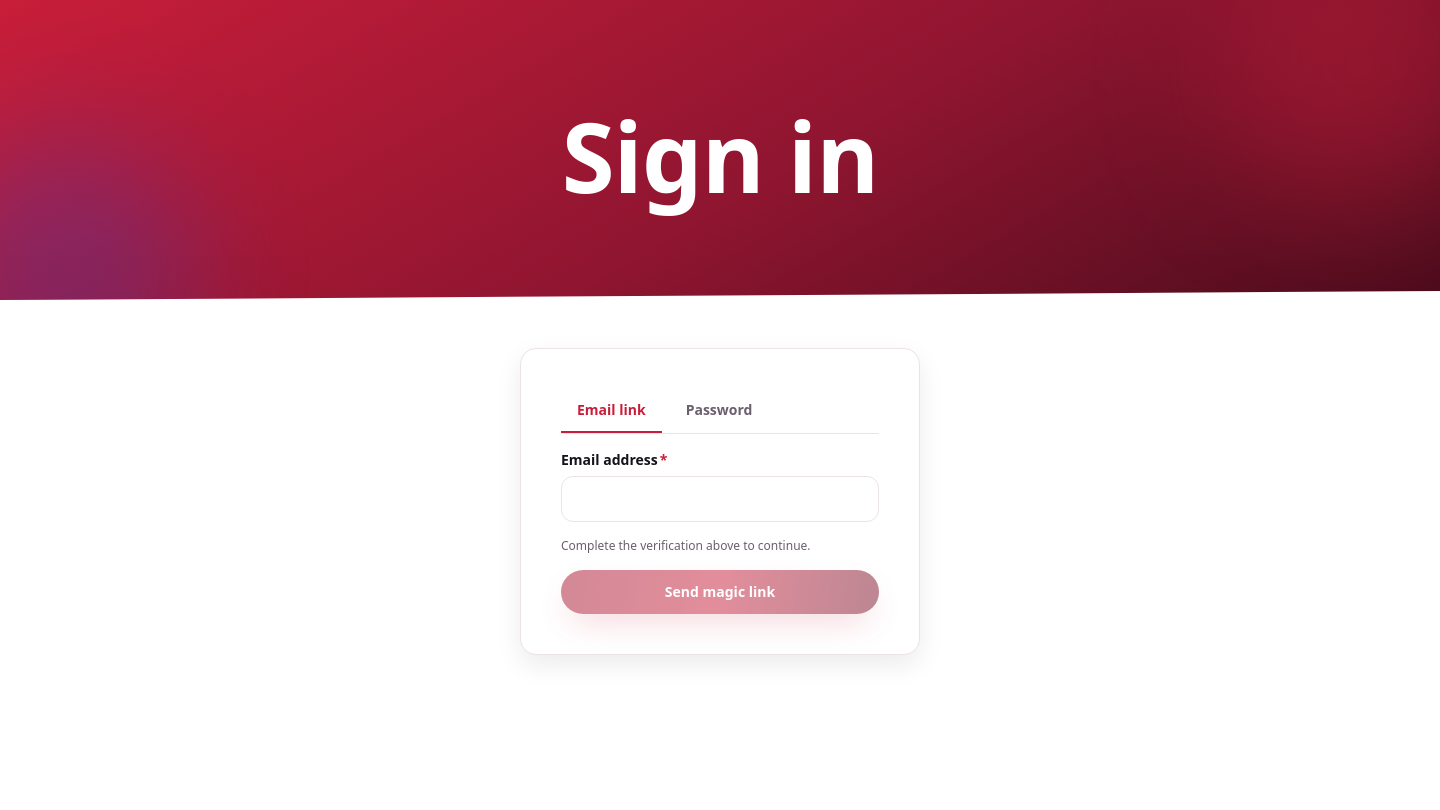
Test case: AccountLoginPage › Password tab › shows a password-specific error on failure, without redirecting
Click the tab "Password".
click(719, 411)  # box [670,389,768,433]
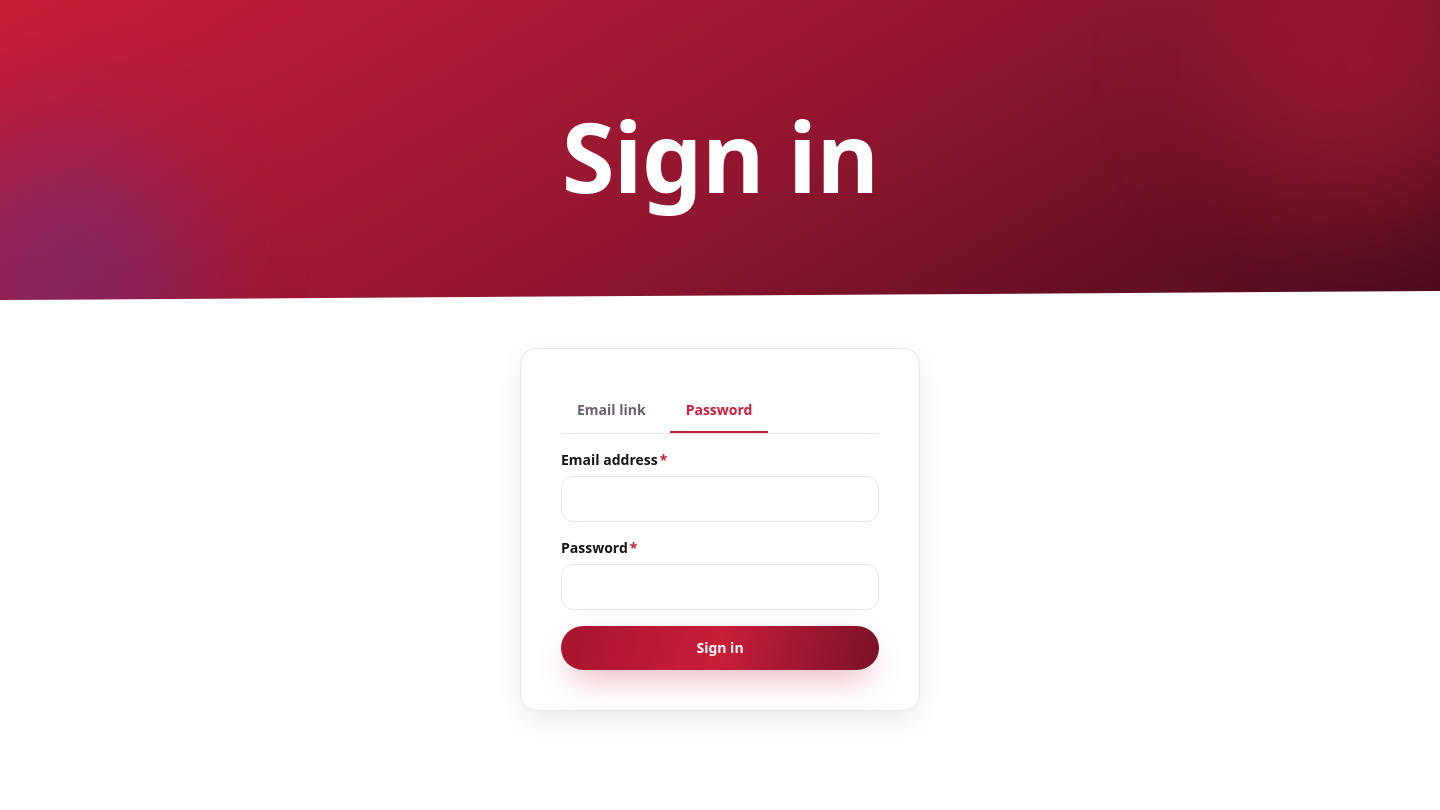
Type "person@example.com" into the field labelled "Email address".
click(720, 499); type("person@example.com")  # box [561,476,879,522]
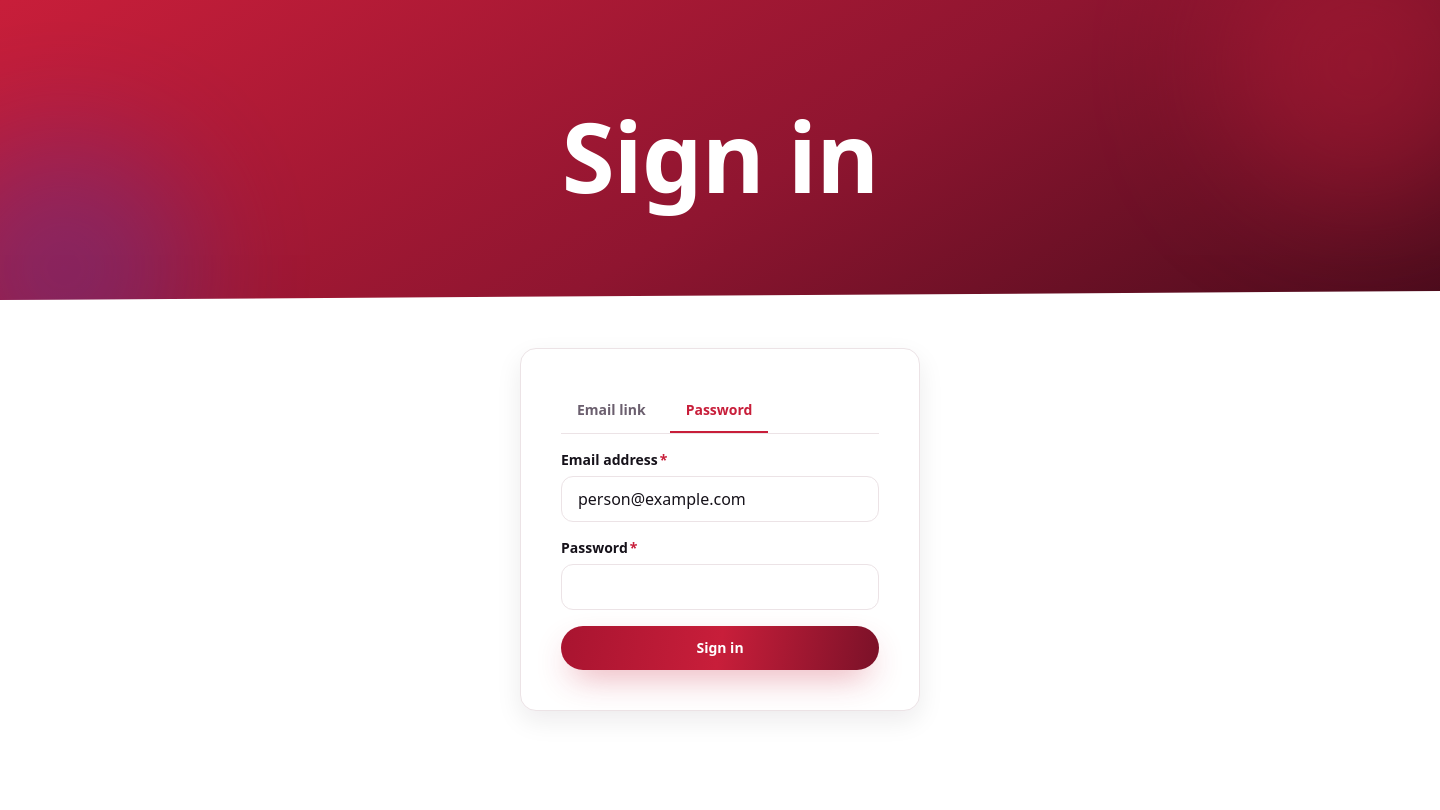
Type "wrong" into the password field labelled "Password".
click(720, 587); type("wrong")  # box [561,564,879,610]
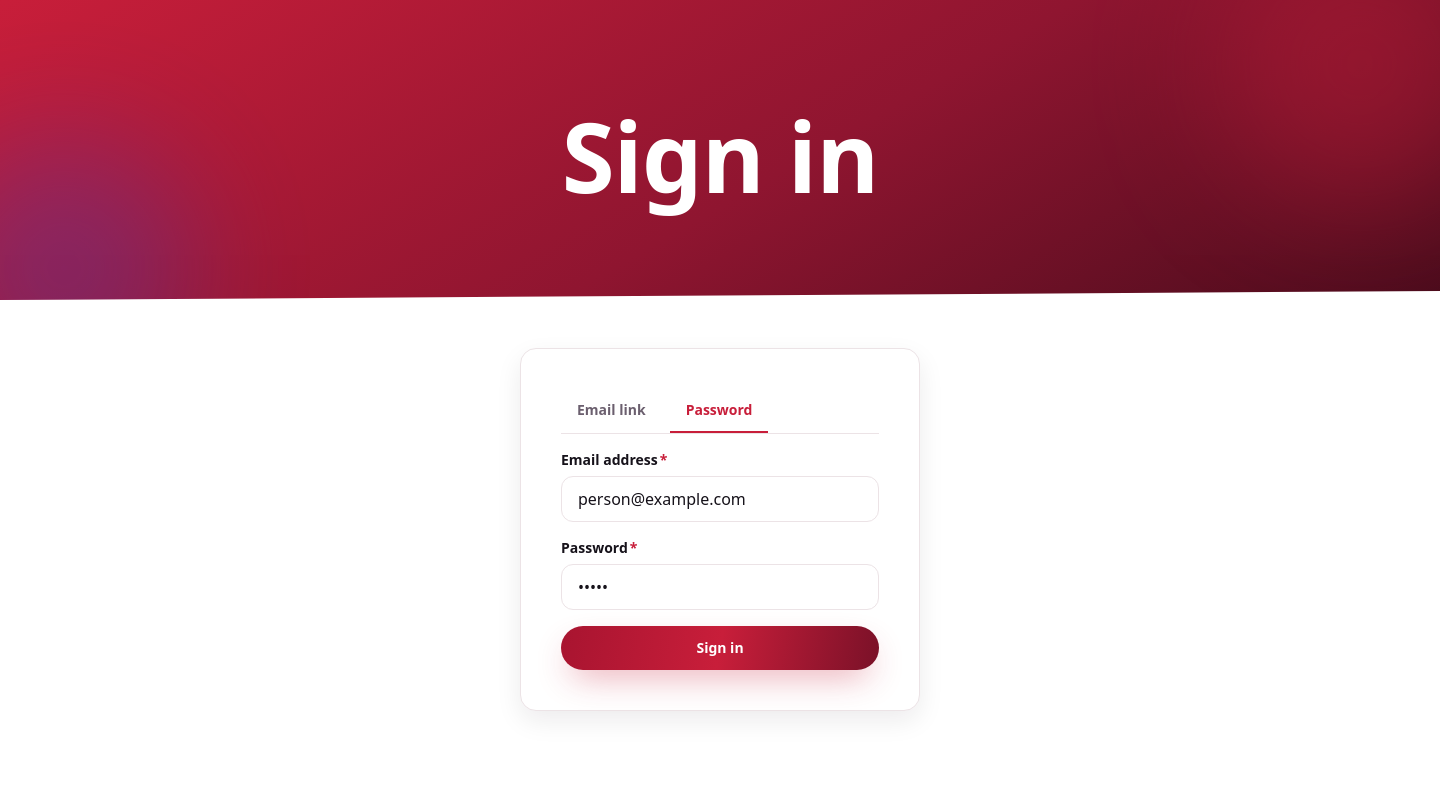
Click the button "Sign in".
click(720, 648)  # box [561,626,879,670]
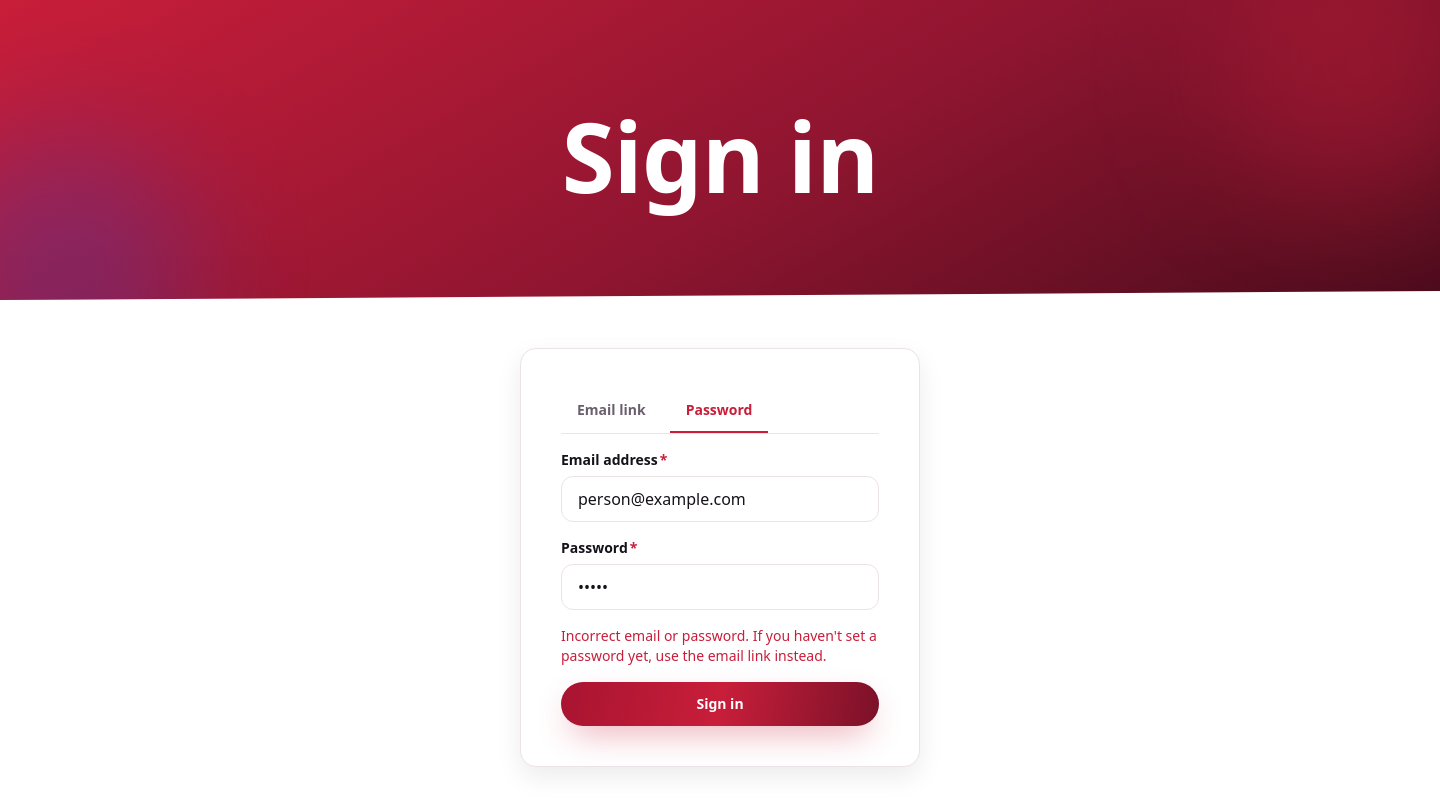
Now the message shows "Incorrect email or password. If you haven't set a password yet, use the email link instead.", box [561,626,877,665]
